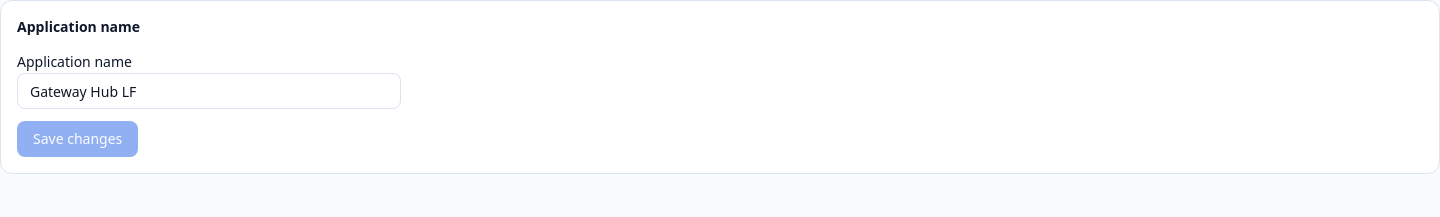
BrandingNameForm › blocks submission and shows an error for a name shorter than 2 characters
Replace the text in the field labelled "Application name" with "A". click: (209, 91)
box: [17, 73, 401, 109]
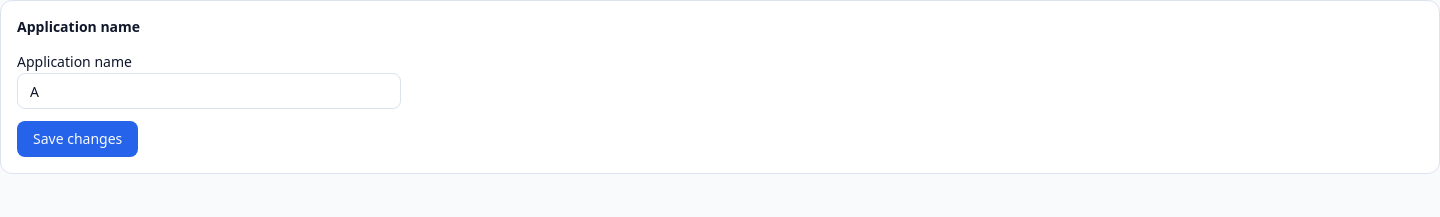
Click the button "Save changes". click: click(78, 139)
box: [17, 121, 138, 157]
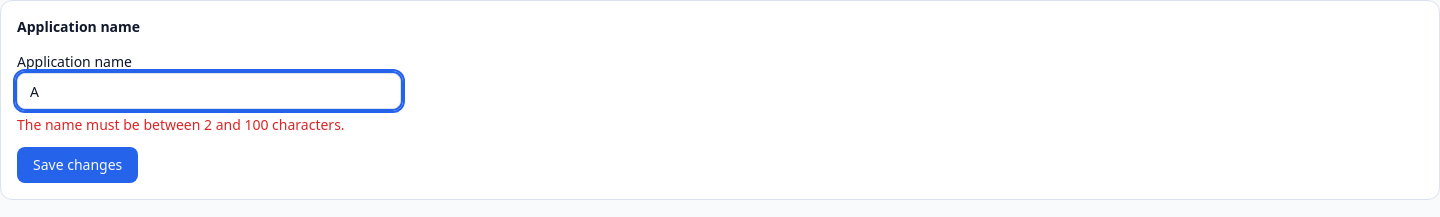
Now the text "The name must be between 2 and 100 characters." is shown, box [17, 115, 401, 135]
